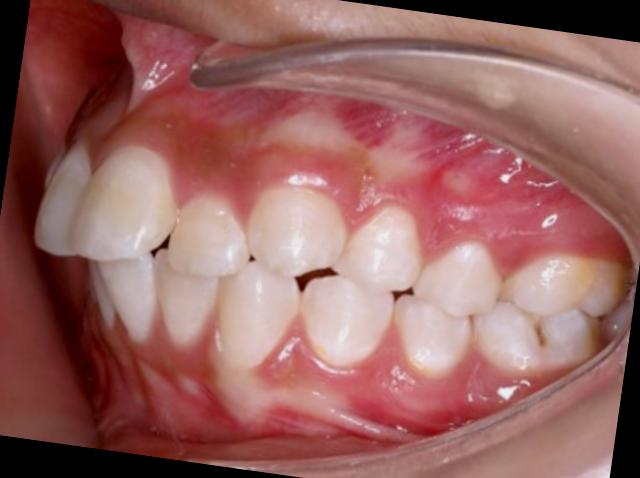canine class II 1/4: (202, 158, 414, 402)
molar class I: (468, 241, 633, 394)
